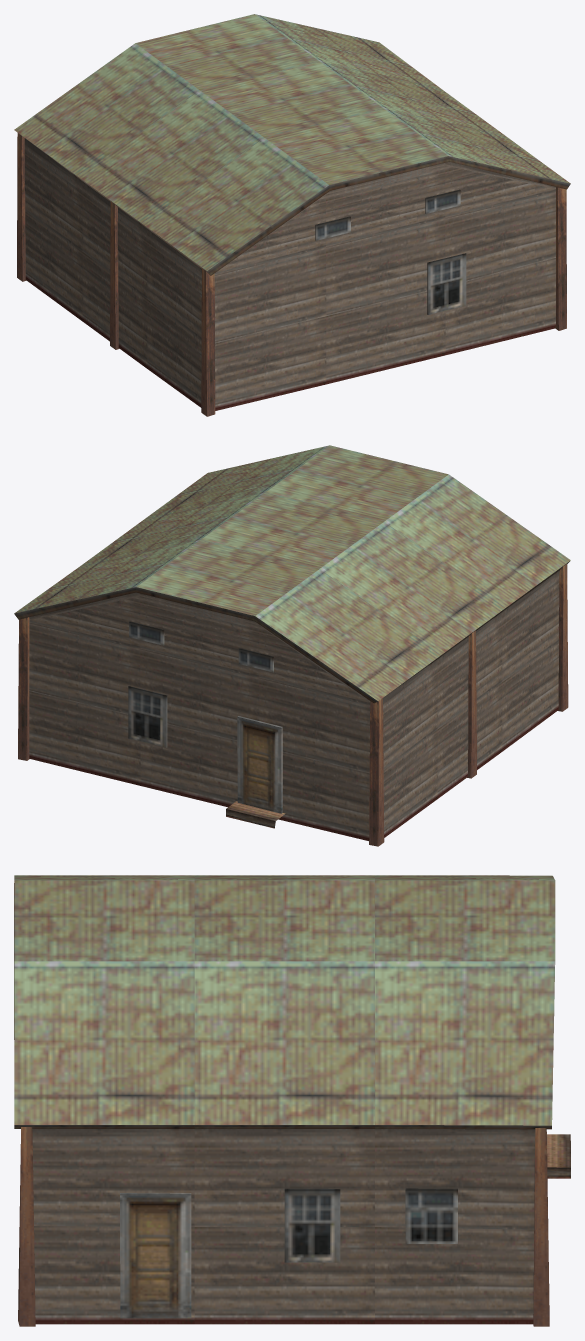
Rendered from house02.glb.
The picture shows the model from 3 angles, top to bottom: view 1: azimuth 30°, elevation 25°; view 2: azimuth 150°, elevation 25°; view 3: azimuth 270°, elevation 25°; orthographic projection. The views are drawn at different scales.
Visible parts, largest first — view 1: house02_elements_0; view 2: house02_elements_0; view 3: house02_elements_0.
Boxes of the visible parts, left/top/right/bottom form: house02_elements_0: left=14, top=14, right=570, bottom=416; house02_elements_0: left=14, top=445, right=570, bottom=846; house02_elements_0: left=14, top=875, right=570, bottom=1326.
Size of the model in its own units: 11.06 by 5.88 by 10.49.
Materials: 1 (1 with a texture image).
